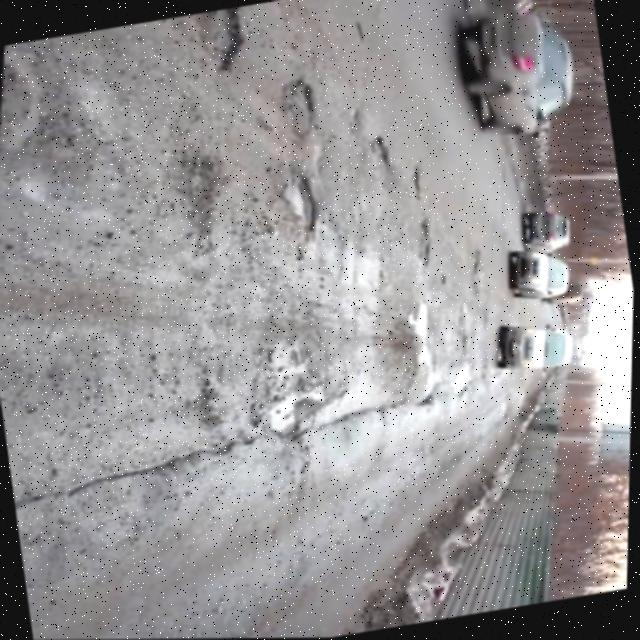Pothole: (246, 330, 342, 445), (0, 45, 77, 166), (171, 4, 273, 85), (387, 305, 458, 412), (273, 172, 339, 240), (280, 70, 336, 125), (359, 130, 406, 173), (445, 356, 486, 402)
